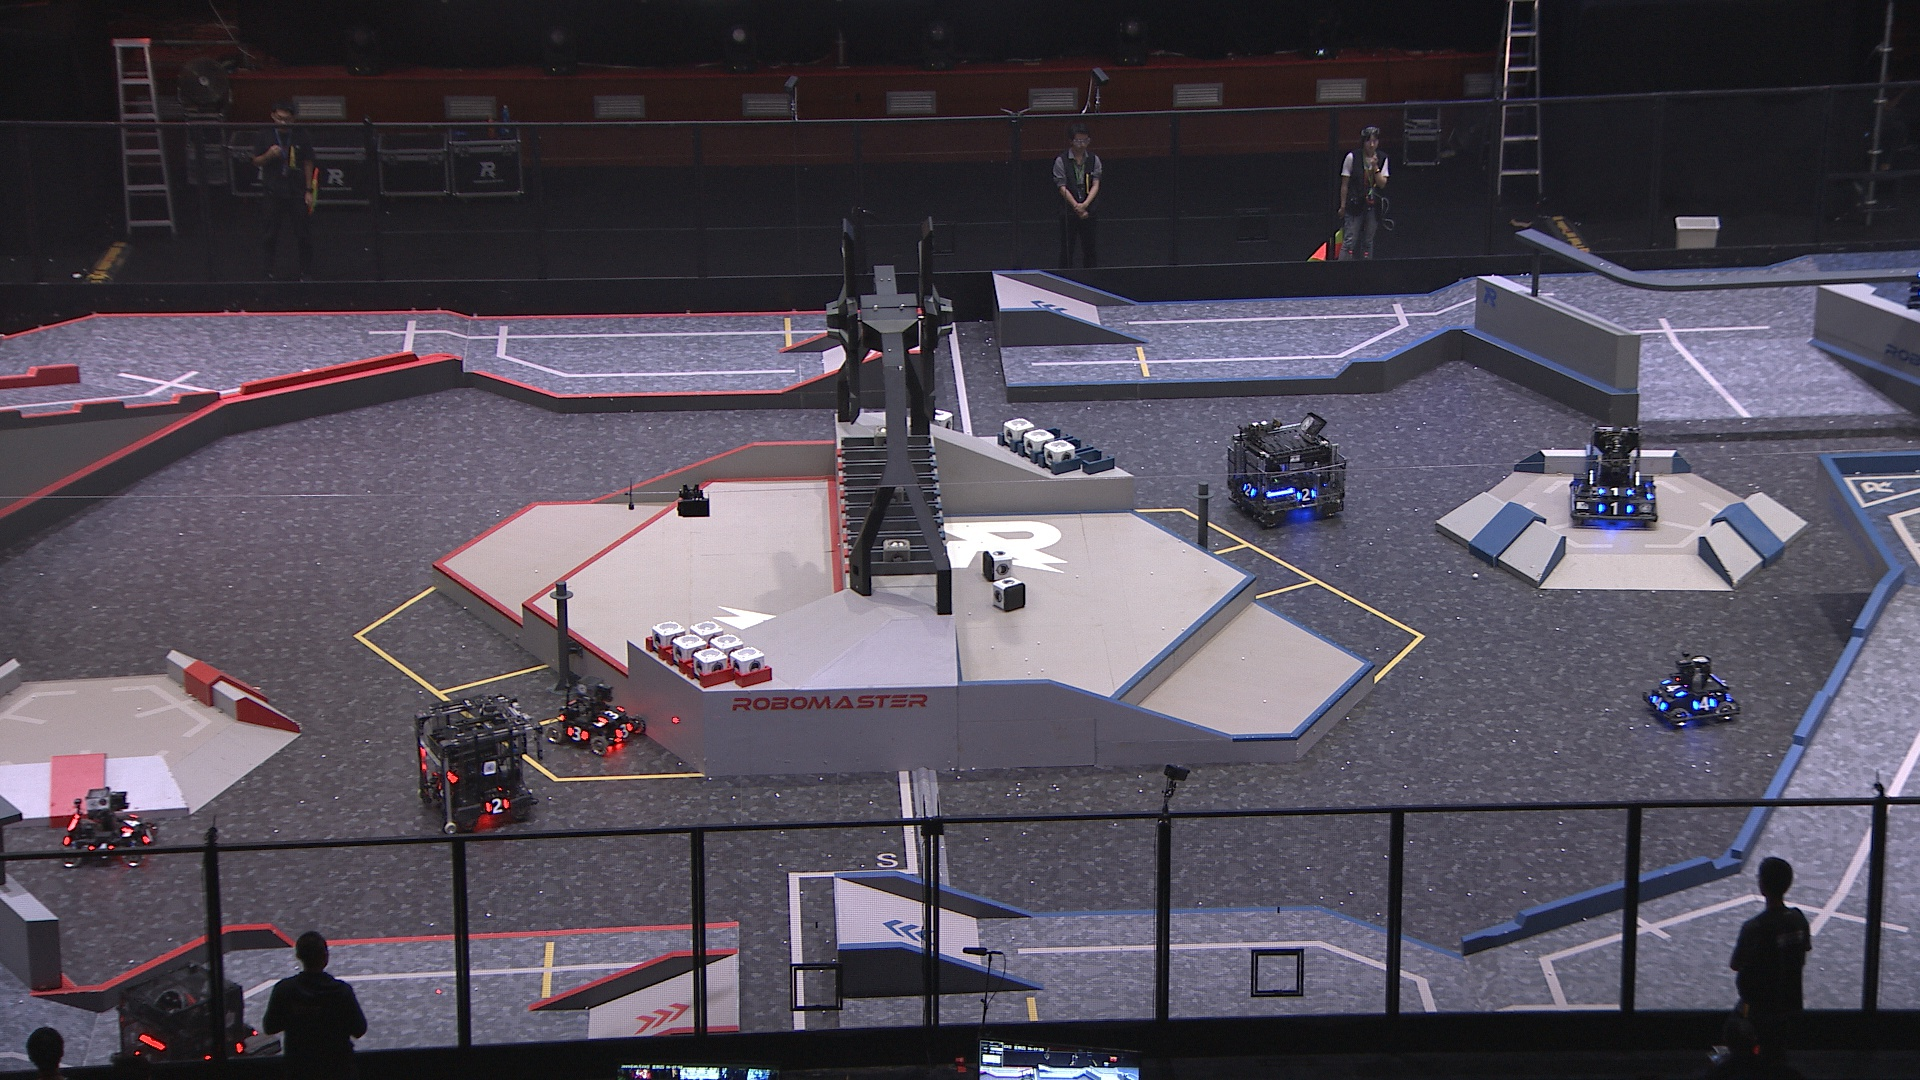armor: (84, 844, 120, 862), (1596, 500, 1634, 517), (593, 705, 626, 725), (484, 796, 510, 818), (1646, 692, 1673, 712), (1596, 485, 1636, 498), (564, 725, 589, 746), (1660, 678, 1685, 698), (613, 723, 636, 741), (119, 814, 140, 832), (1296, 488, 1317, 505), (141, 825, 158, 845), (1695, 698, 1717, 712), (1240, 483, 1255, 501)
car: (111, 963, 280, 1080), (411, 695, 542, 839), (1226, 415, 1346, 524), (1569, 425, 1660, 527), (58, 785, 161, 870), (547, 674, 646, 757), (1640, 651, 1741, 728)
